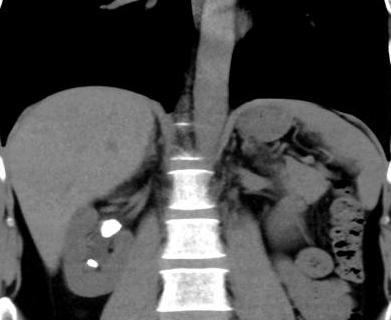Tas_Var: (100, 217, 122, 242), (84, 257, 98, 271)
